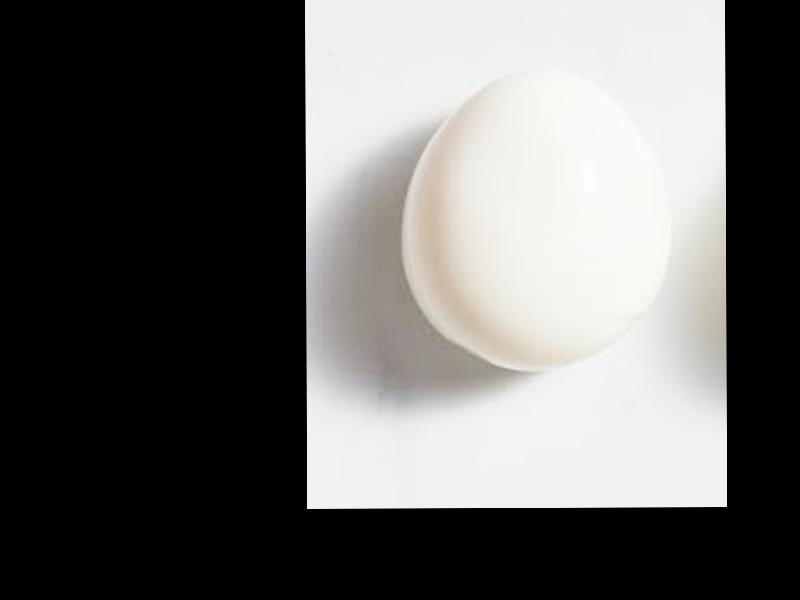Eggs: (401, 71, 671, 372)
